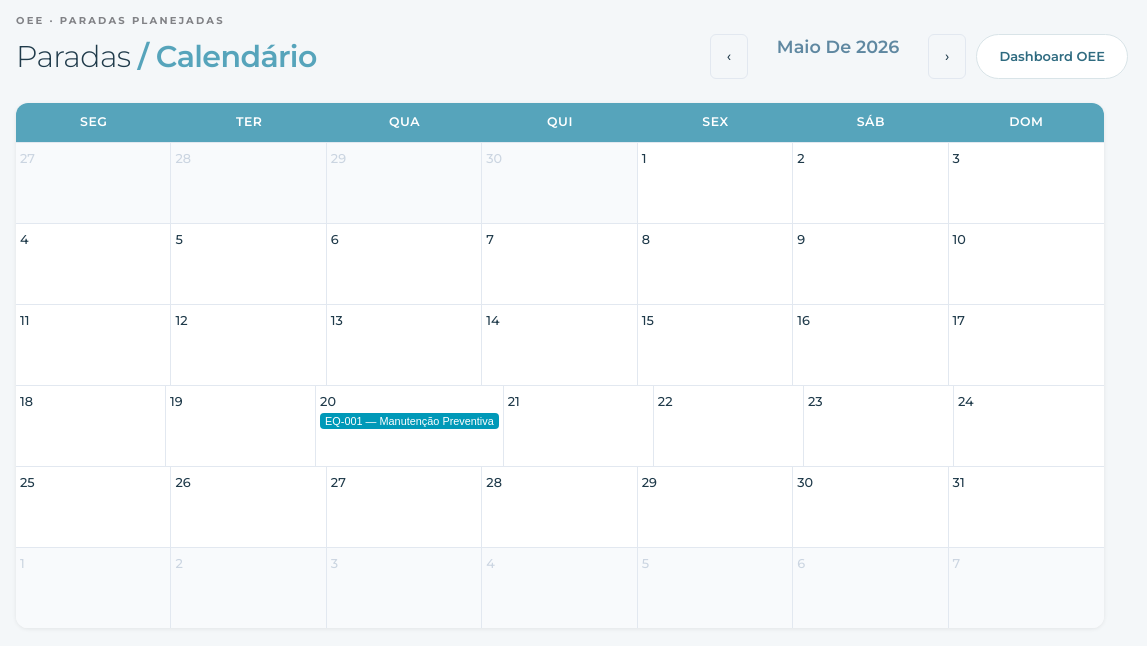
PlannedDowntimeCalendarComponent › AC-3 — detail panel › should open detail panel when badge is clicked
The width and height of the screenshot is (1147, 646).
Click the button with test id "downtime-badge" at (409, 421), box top-left (320, 413), bottom-right (499, 429)
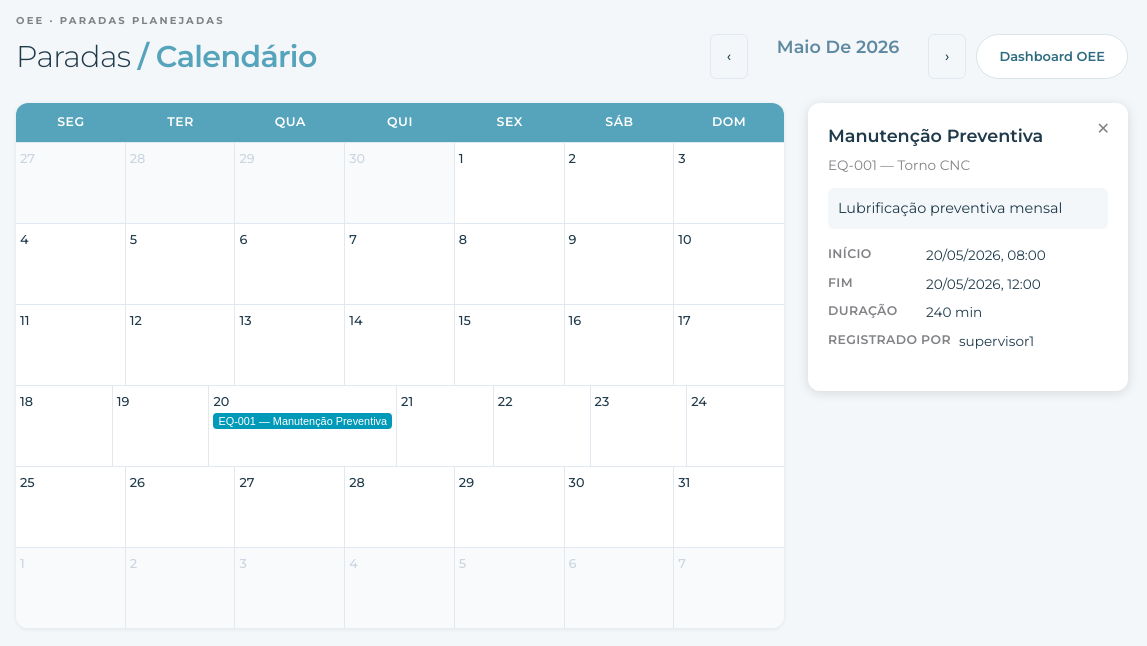
Now the element with test id "detail-panel" is shown, box top-left (808, 103), bottom-right (1128, 391)
